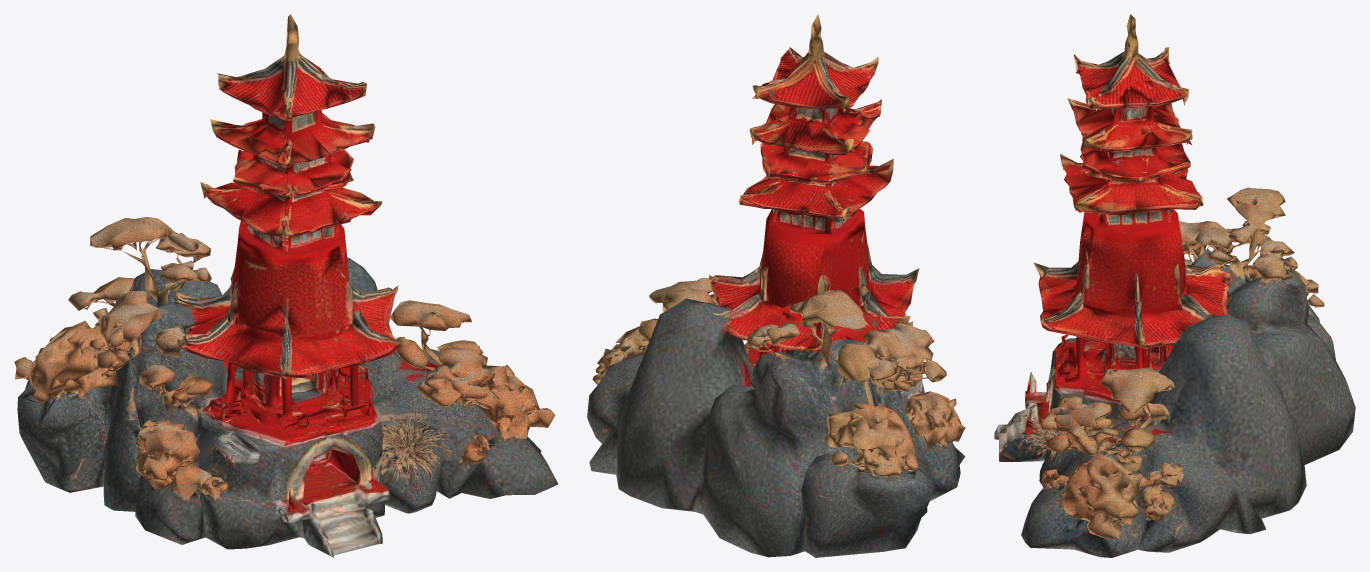
File: spireA.glb
3 renders of one model, left to right at view 1: azimuth 30°, elevation 25°; view 2: azimuth 150°, elevation 25°; view 3: azimuth 270°, elevation 25°, orthographic. The views are drawn at different scales.
Size of the model in its own units: 1.83 by 1.89 by 1.41.
1 material, 1 textured.
